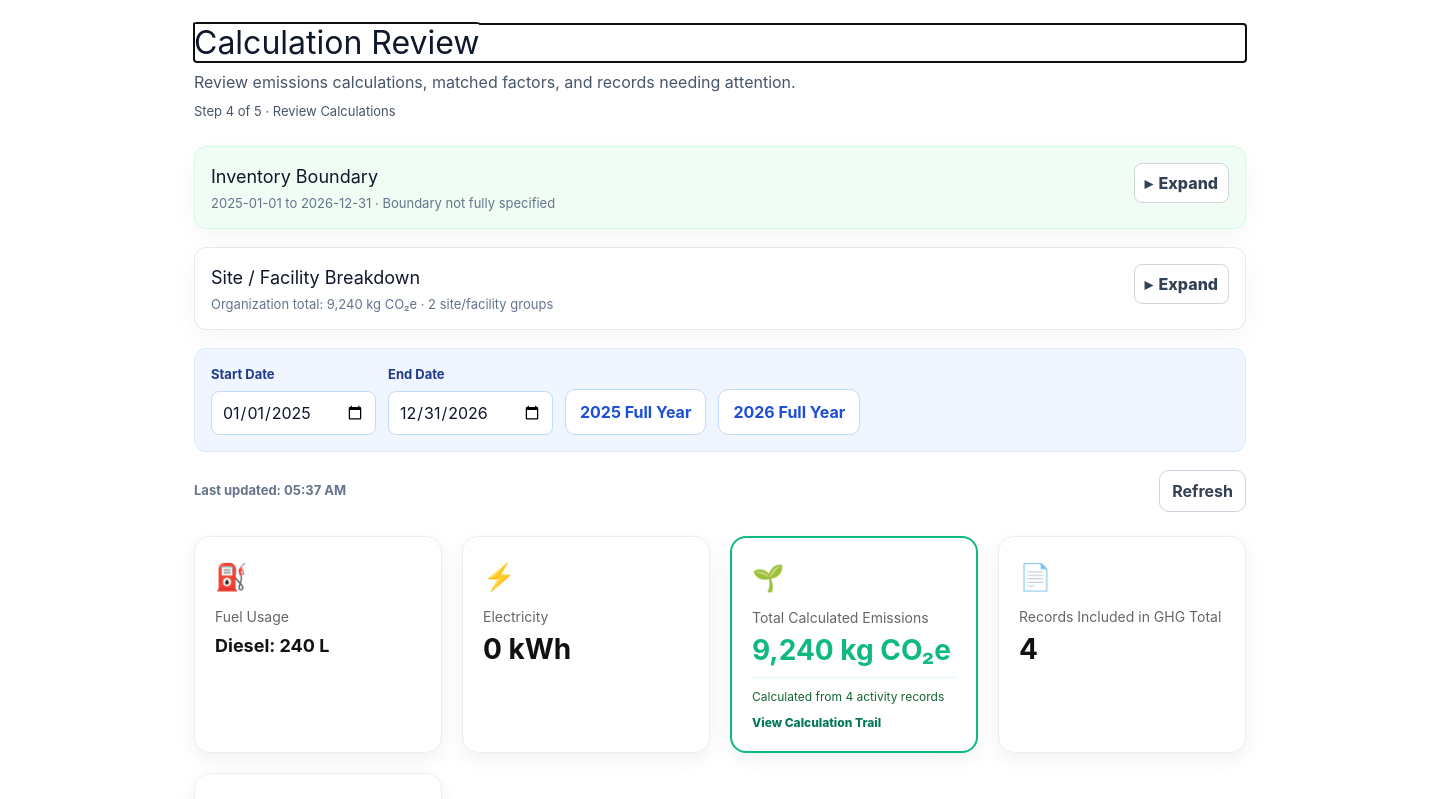
Test: MetricsSummaryPage automatic refresh UX › shows a collapsible Site / Facility Breakdown with calculated GHG totals
Expected: the element "Site / Facility Breakdown" shows "Organization total: 9,240 kg CO₂e", [211,296,553,312]
Expected: the element "Site / Facility Breakdown" shows "2 site/facility groups", [211,296,553,312]
Click the button with aria-label "Expand Site / Facility Breakdown": (1181, 284) [1134,264,1229,304]
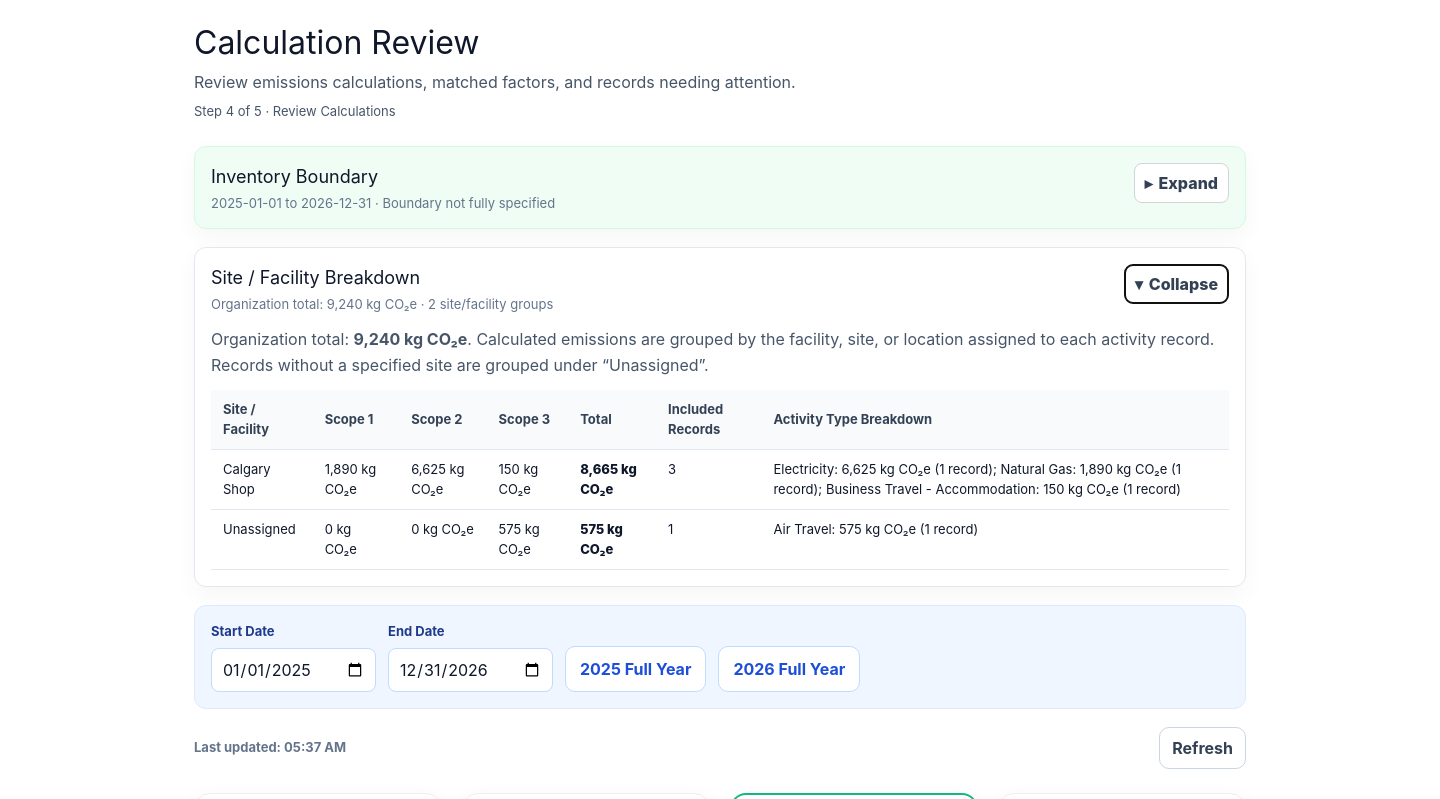
Result: the text "Calgary Shop" is shown at [211,450,313,510]
Result: the text "Unassigned" is shown at [211,510,313,570]
Result: the text "8,665 kg CO₂e" is shown at [568,450,656,510]
